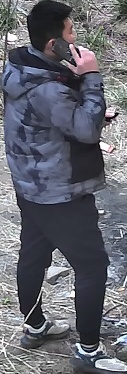phone: (25, 2, 107, 144)
